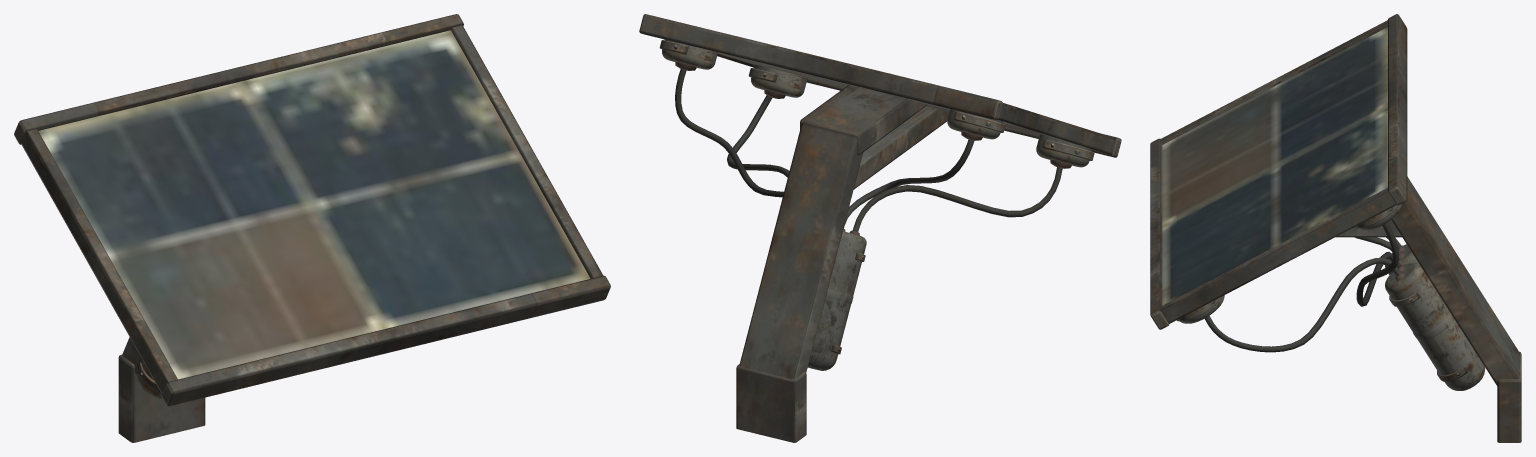
Rendered from prop_small_017.glb.
3 views of the same model, side by side, from view 1: azimuth 30°, elevation 25°; view 2: azimuth 150°, elevation 25°; view 3: azimuth 270°, elevation 25° (orthographic). The views are drawn at different scales.
Parts seen in each view (by area): view 1: Building_12_041; view 2: Building_12_041; view 3: Building_12_041.
Part boxes in pixels (left/top/right/bottom): Building_12_041: left=14, top=14, right=610, bottom=442; Building_12_041: left=639, top=14, right=1121, bottom=442; Building_12_041: left=1150, top=14, right=1521, bottom=442.
Bounding box in the file's own units: 0.8 × 0.7133 × 0.7236.
1 material, 1 textured.
